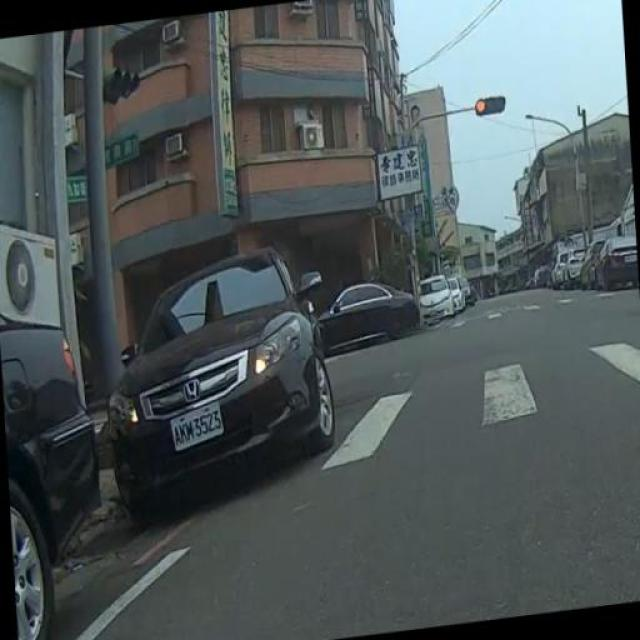illegalparking: (76, 236, 372, 522)
